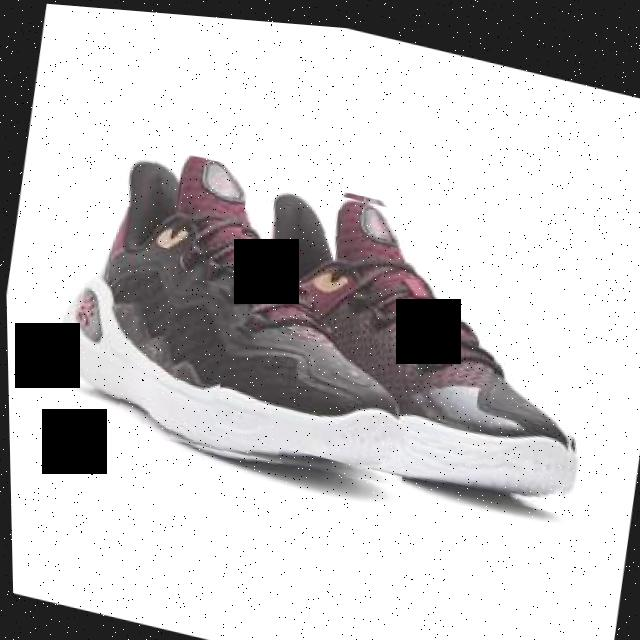shoe: (44, 127, 445, 496), (207, 168, 608, 510)
